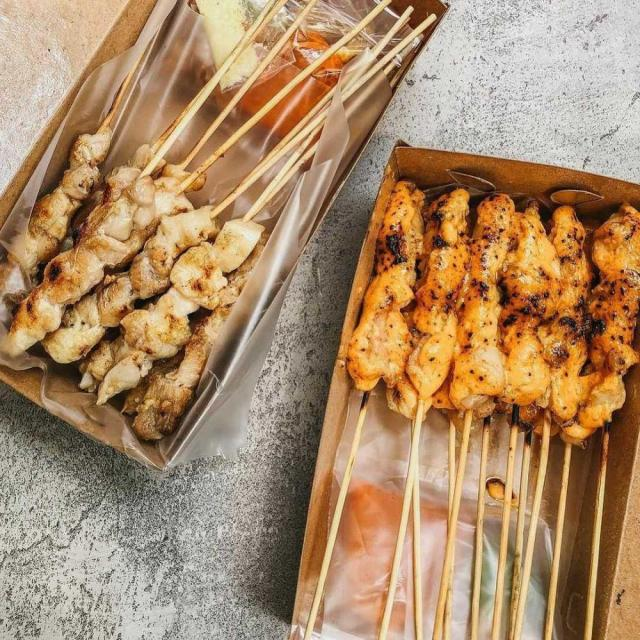Sate: (4, 15, 435, 444), (301, 167, 637, 615)
